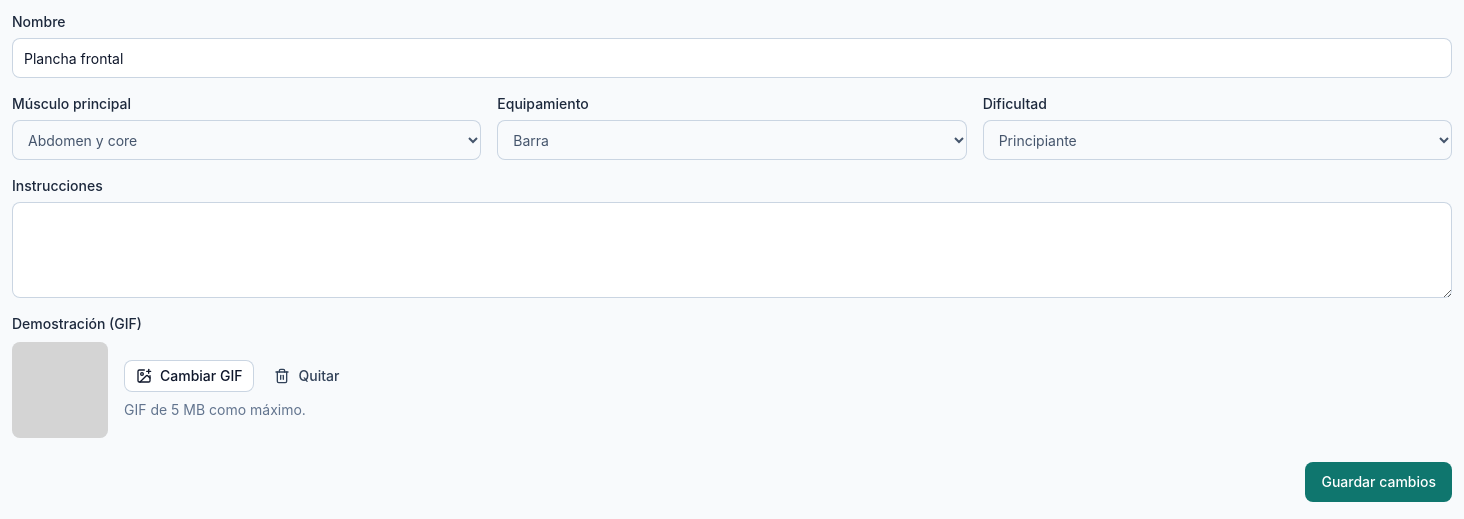
Scenario: ExerciseForm › permite quitar el GIF que ya tiene el ejercicio
The width and height of the screenshot is (1464, 519).
Later steps or results of the test are not shown.
Click the button "Quitar" at [307, 376], box [262,360,351,392]
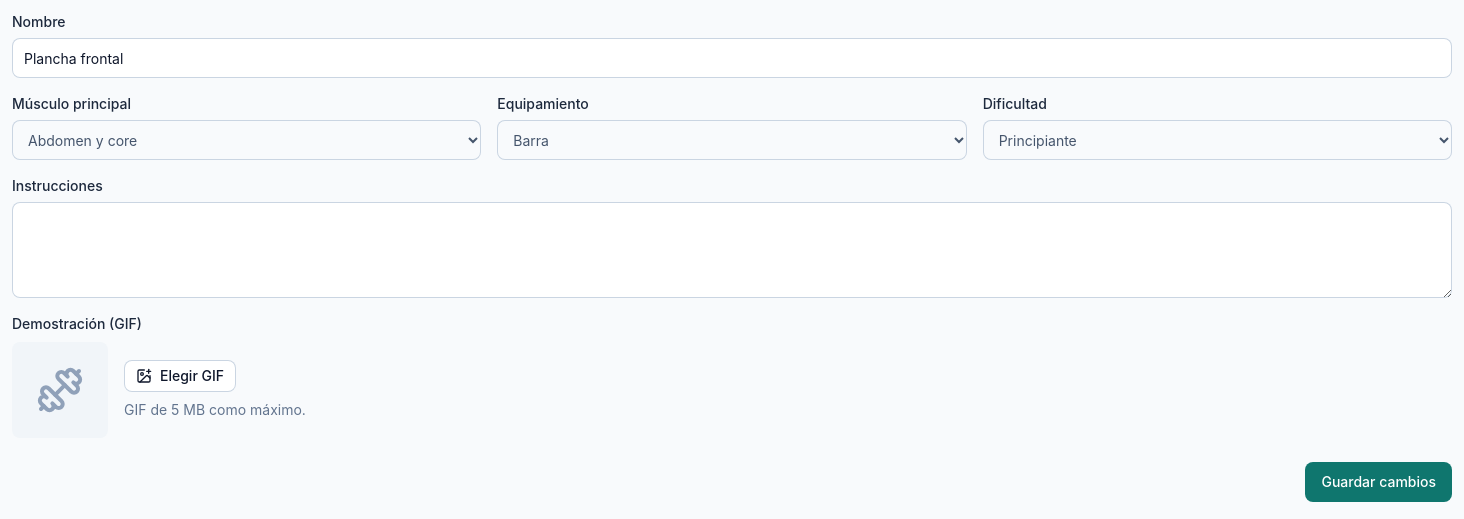
Check: the picture is gone
